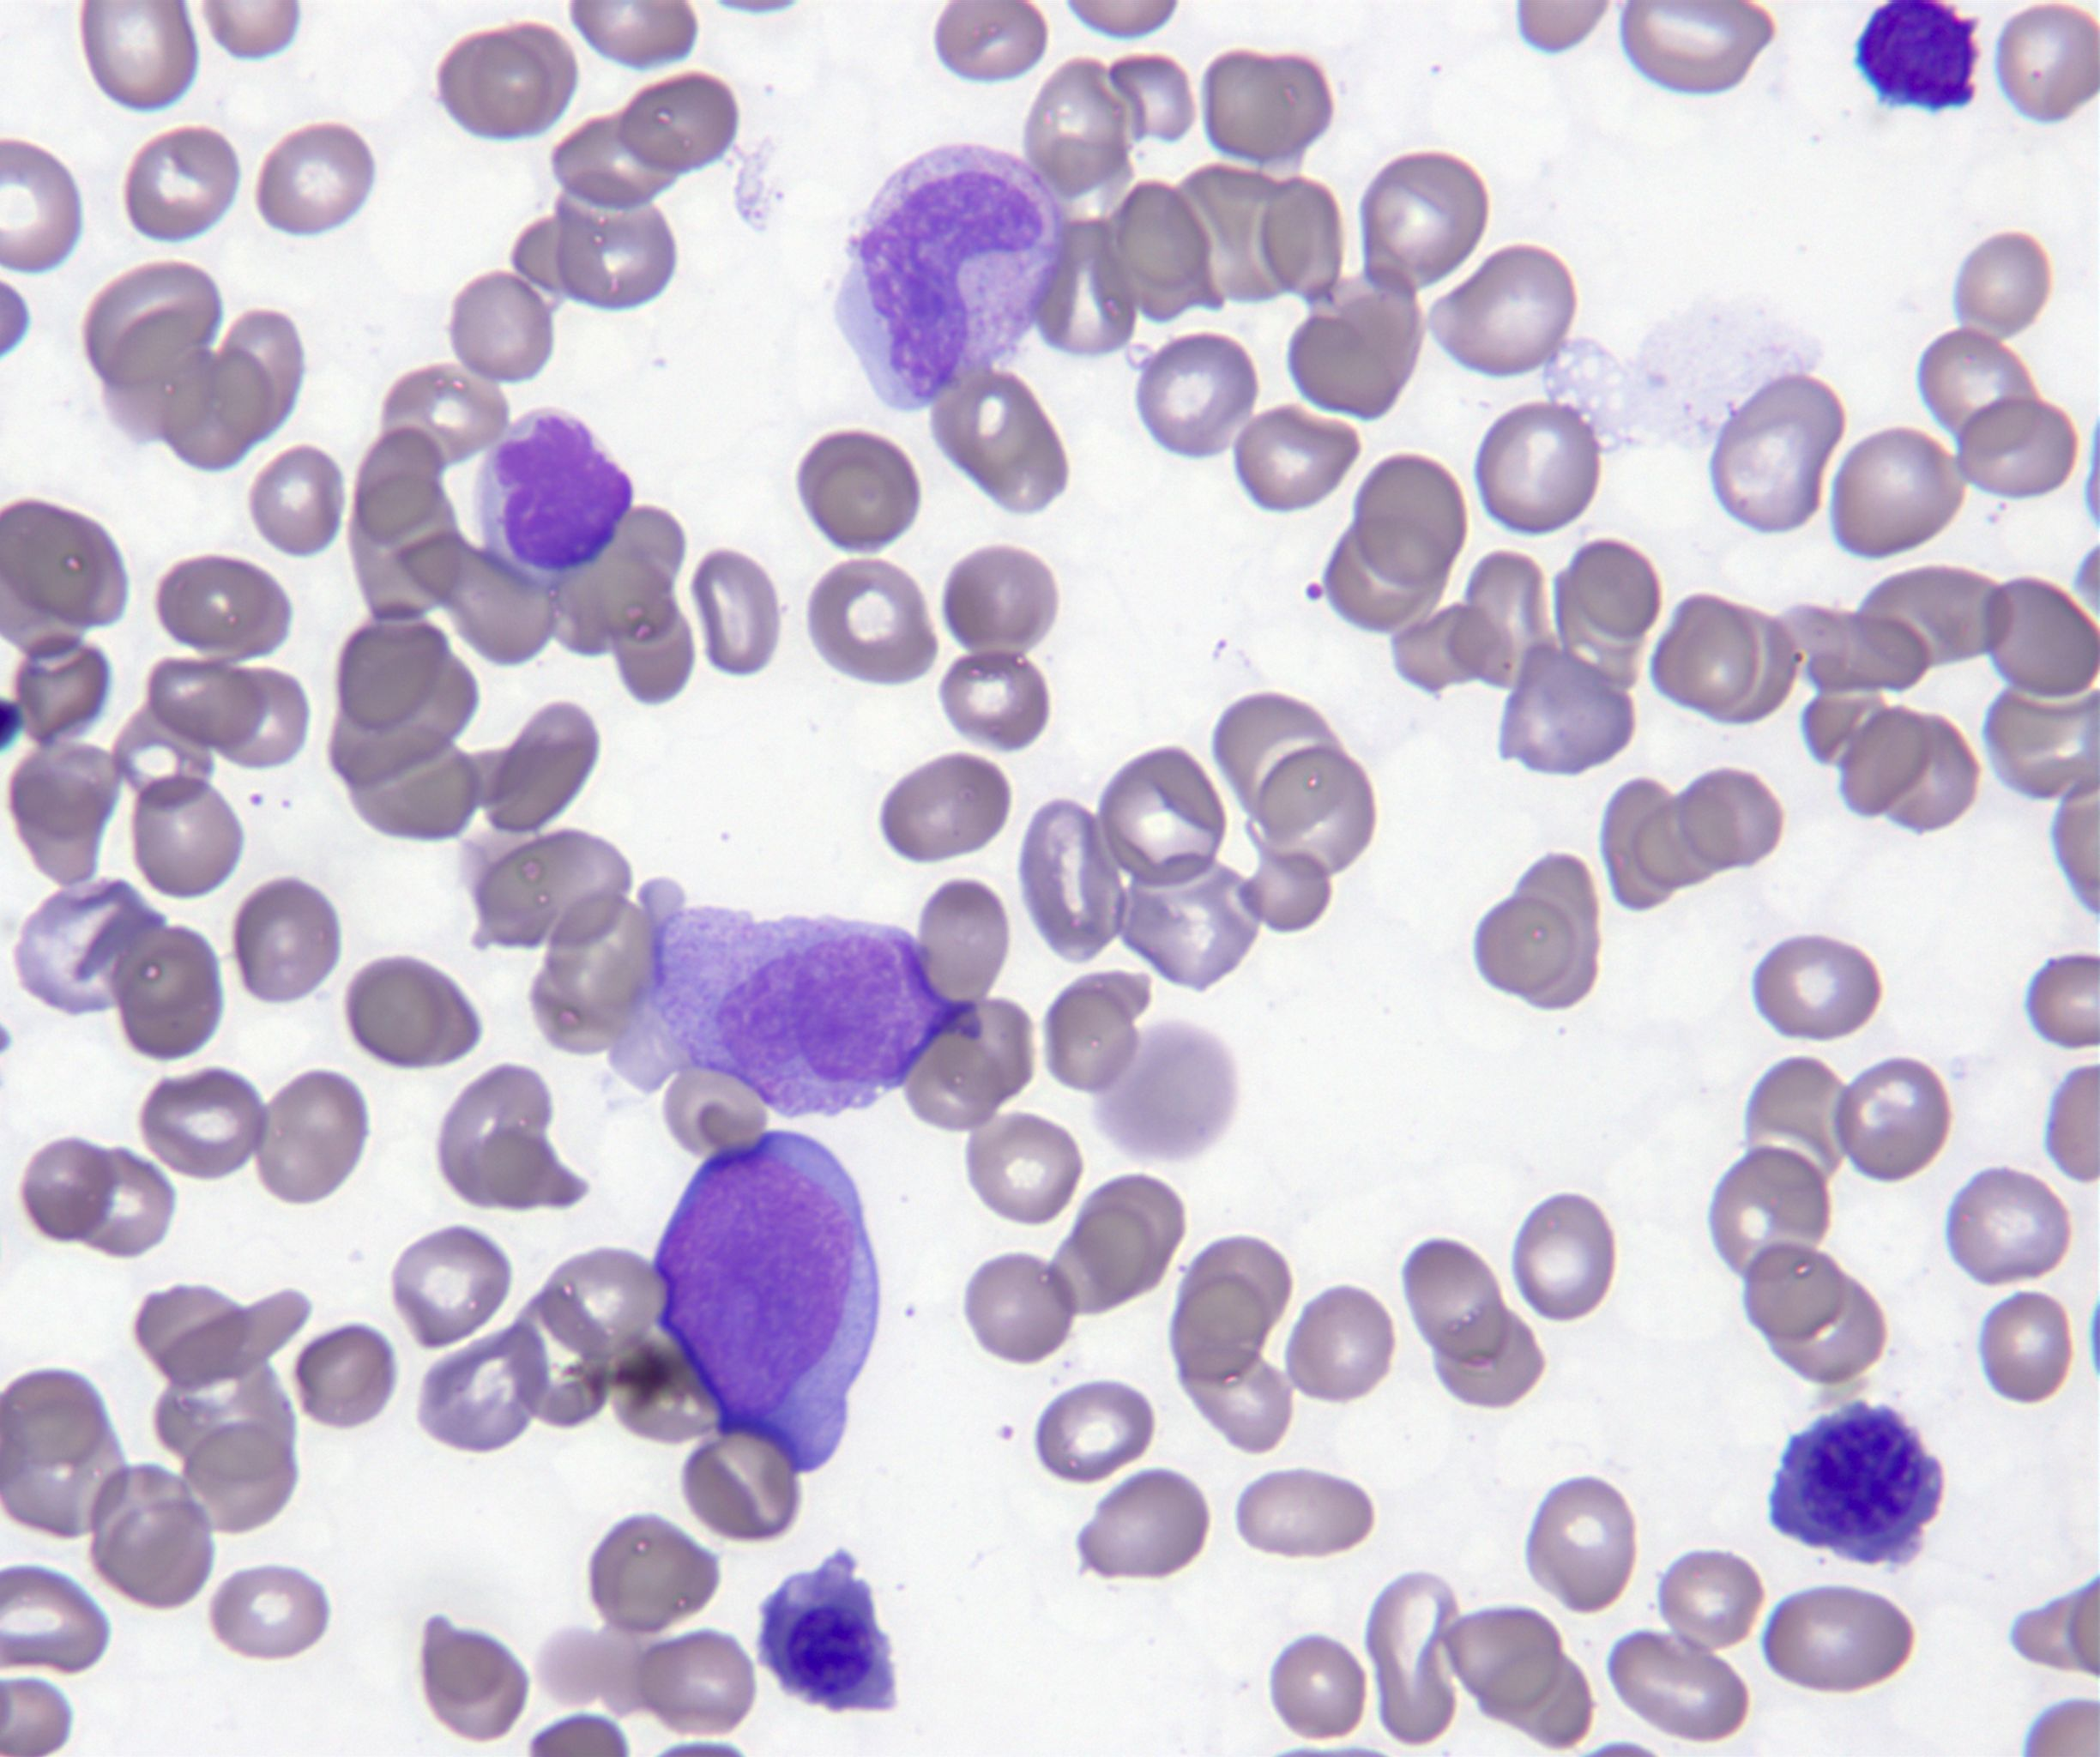1: (652, 1136, 877, 1471)
23: (1770, 1401, 1945, 1569)
32: (473, 405, 633, 586), (1856, 0, 1981, 112)
42: (654, 909, 984, 1117)
5: (832, 145, 1066, 419)
x: (753, 1548, 900, 1713)
